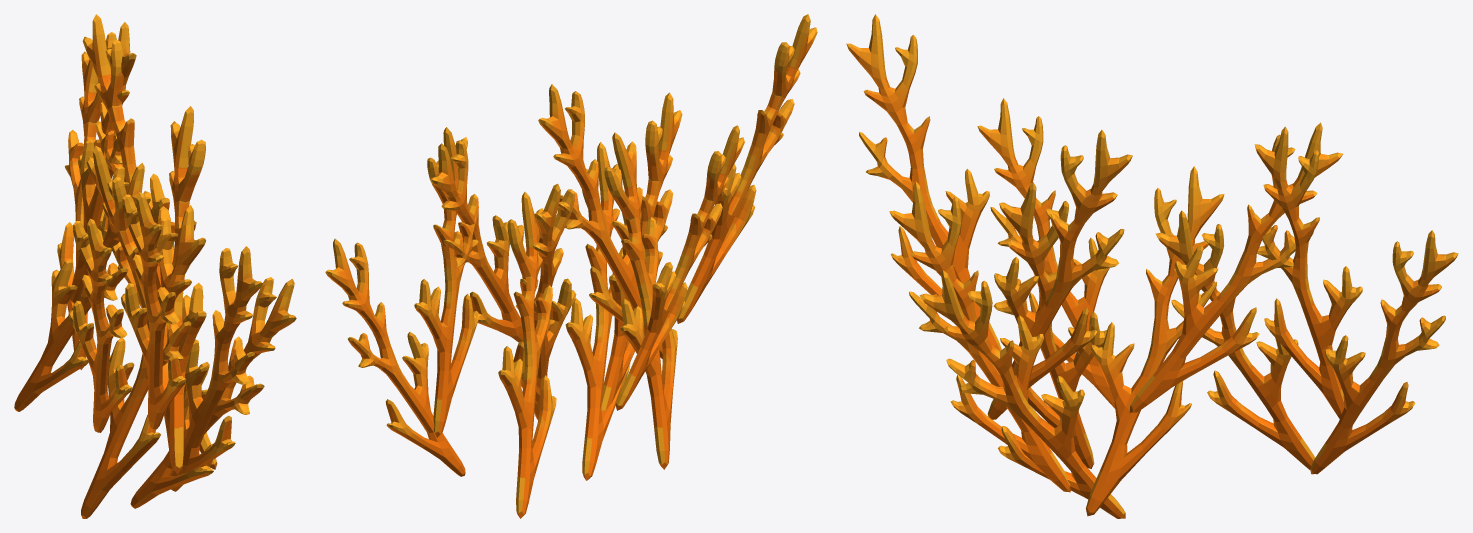
File: orangecoral1.glb
3 renders of one model, left to right at view 1: azimuth 30°, elevation 25°; view 2: azimuth 150°, elevation 25°; view 3: azimuth 270°, elevation 25°, orthographic. The views are drawn at different scales.
Parts seen in each view (by area): view 1: Plane.002; view 2: Plane.002; view 3: Plane.002.
Part boxes in pixels (x1,y1,x2,y2): Plane.002: [14, 14, 296, 518]; Plane.002: [325, 14, 817, 518]; Plane.002: [846, 14, 1458, 518].
Size of the model in its own units: 13.02 by 22.8 by 28.28.
Materials: 1 (1 with a texture image).
